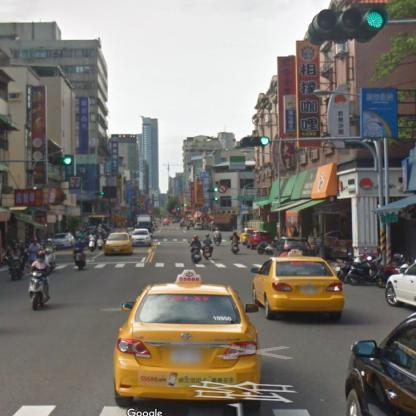Green Light: (310, 5, 388, 39), (62, 152, 76, 182), (240, 134, 271, 146)
